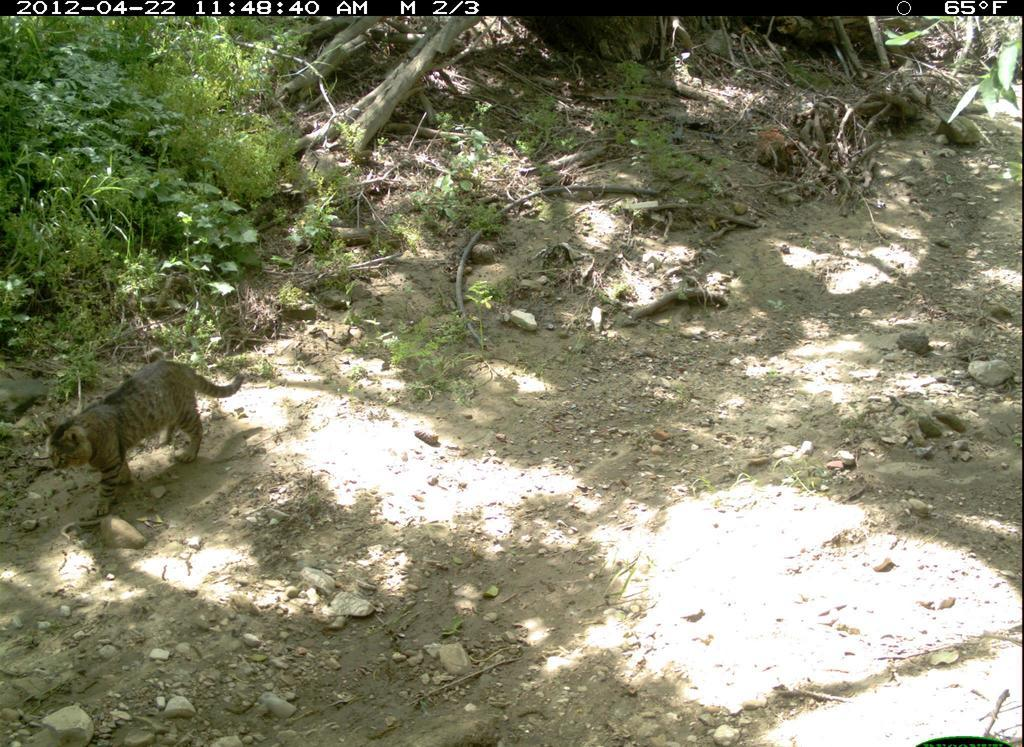cat: (32, 352, 257, 532)
